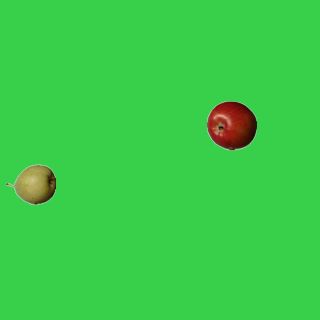Apple Braeburn: (206, 100, 256, 150)
Pear: (5, 159, 55, 209)
